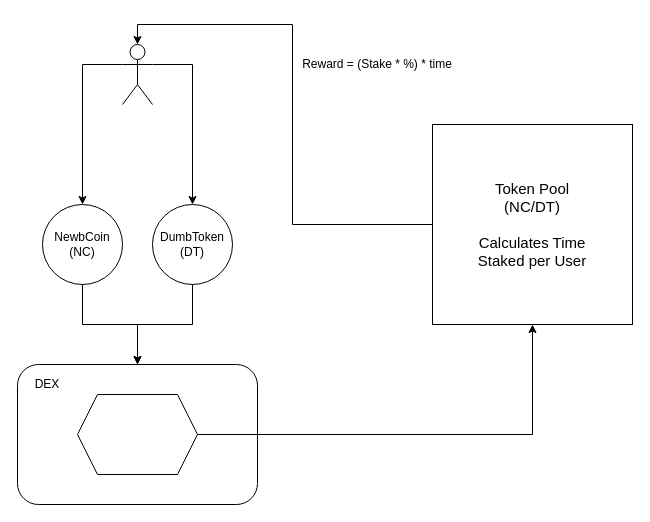
The diagram is 650 pixels wide and 522 high, and some of its shapes have lost their labels. The shapes that lost their labels are listed below. From the top down, each one's box as (x1, y1, x2, y2) in pixels, then its label:
(122, 44, 152, 104): BadAtBlockchain
(76, 394, 198, 474): NC/DT pair
